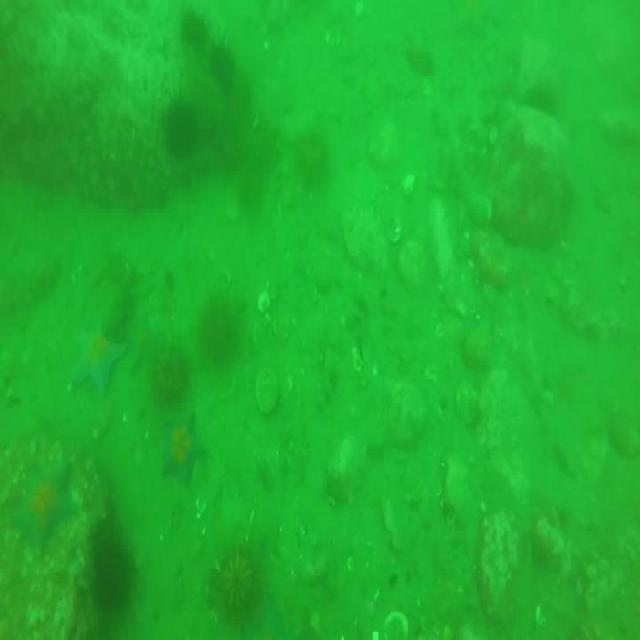echinus: (90, 518, 134, 626), (151, 334, 195, 406), (222, 548, 262, 623), (163, 95, 201, 155), (209, 38, 237, 88), (180, 10, 206, 48)
scallop: (255, 367, 278, 417), (455, 382, 478, 427), (384, 613, 410, 640), (323, 25, 344, 52), (384, 216, 402, 246), (215, 270, 233, 291), (258, 294, 271, 313)
starfish: (10, 460, 81, 548), (72, 319, 126, 397), (158, 412, 208, 483)
